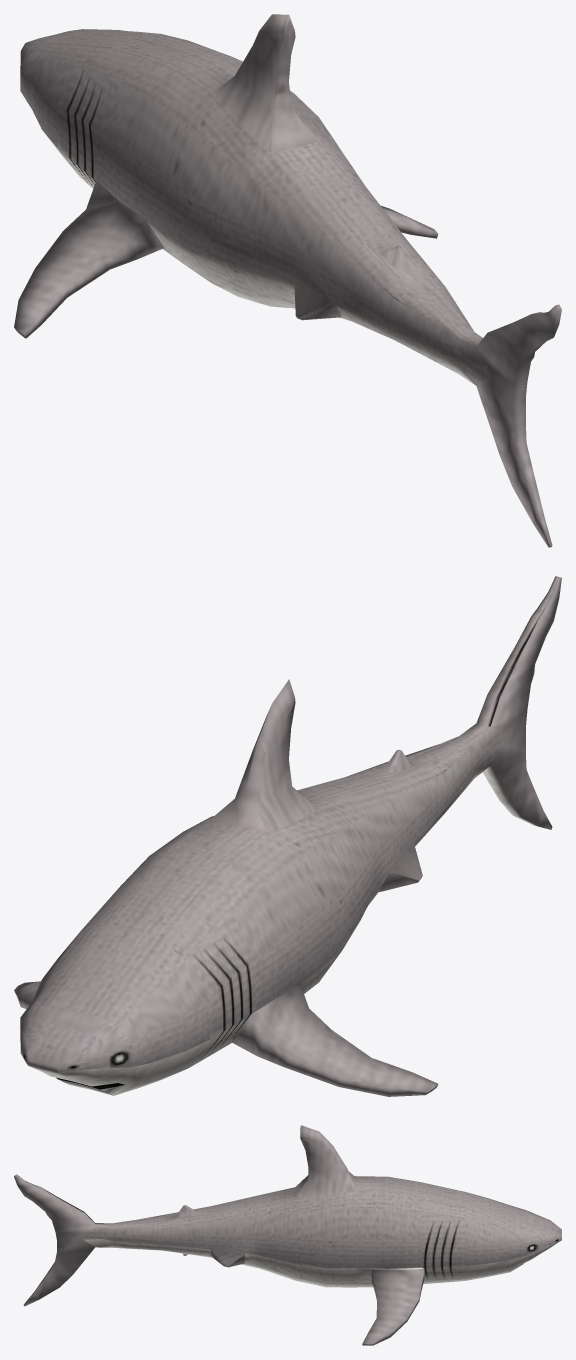
File: Tubarao.fbx
3 renders of one model, top to bottom at view 1: azimuth 30°, elevation 25°; view 2: azimuth 150°, elevation 25°; view 3: azimuth 270°, elevation 25°, orthographic. The views are drawn at different scales.
Parts seen in each view (by area): view 1: Cube; view 2: Cube; view 3: Cube.
Part boxes in pixels (x1,y1,x2,y2): Cube: (14,14,561,547); Cube: (14,576,561,1096); Cube: (14,1125,561,1345).
Size of the model in its own units: 233 by 182 by 501.
